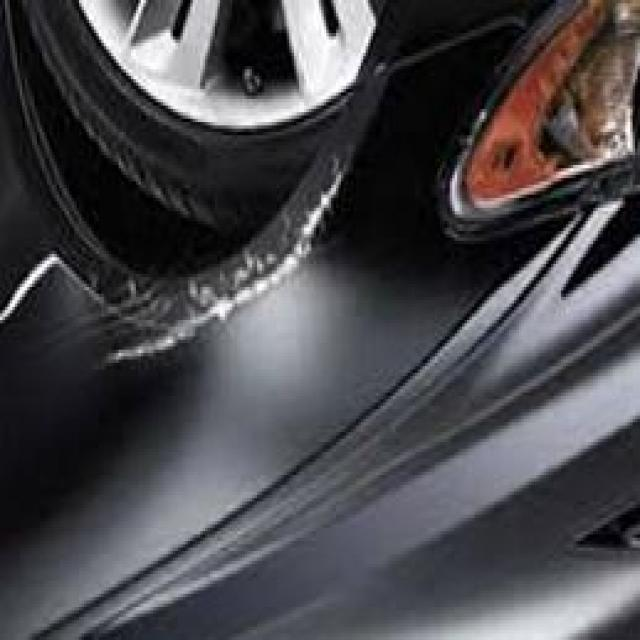scratch: (76, 100, 380, 404)
